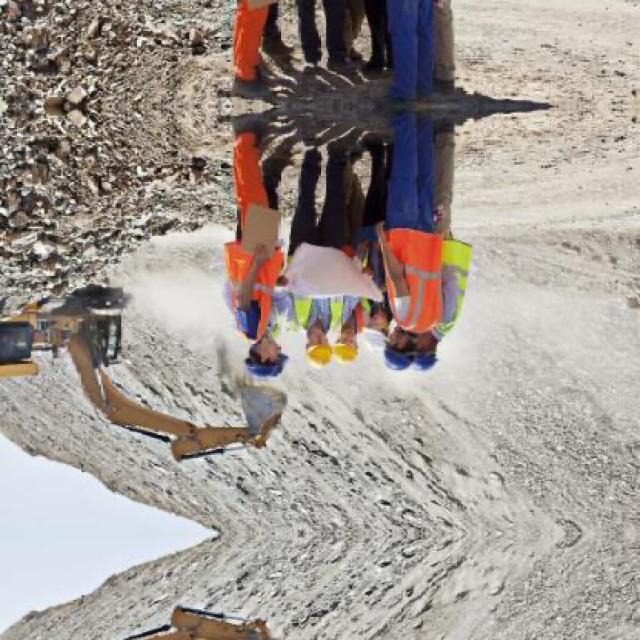con casco: (226, 306, 303, 396), (368, 314, 458, 380), (400, 334, 497, 382), (321, 329, 377, 375), (294, 323, 331, 392)
